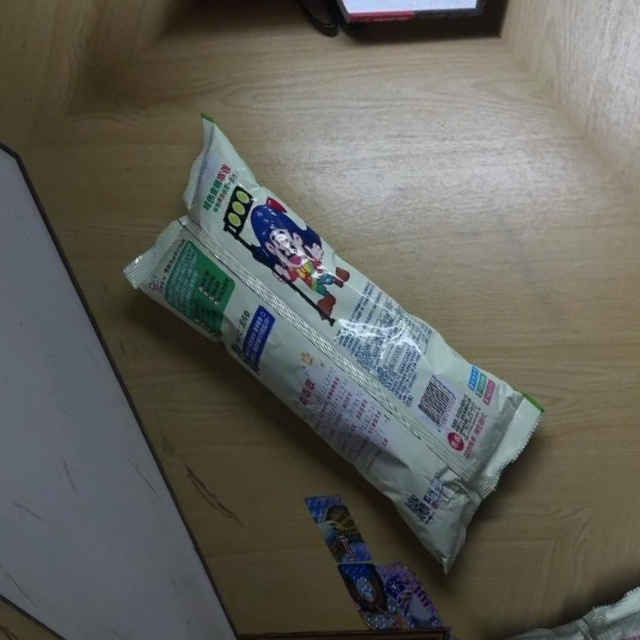Good-Luck: (78, 67, 590, 614)
